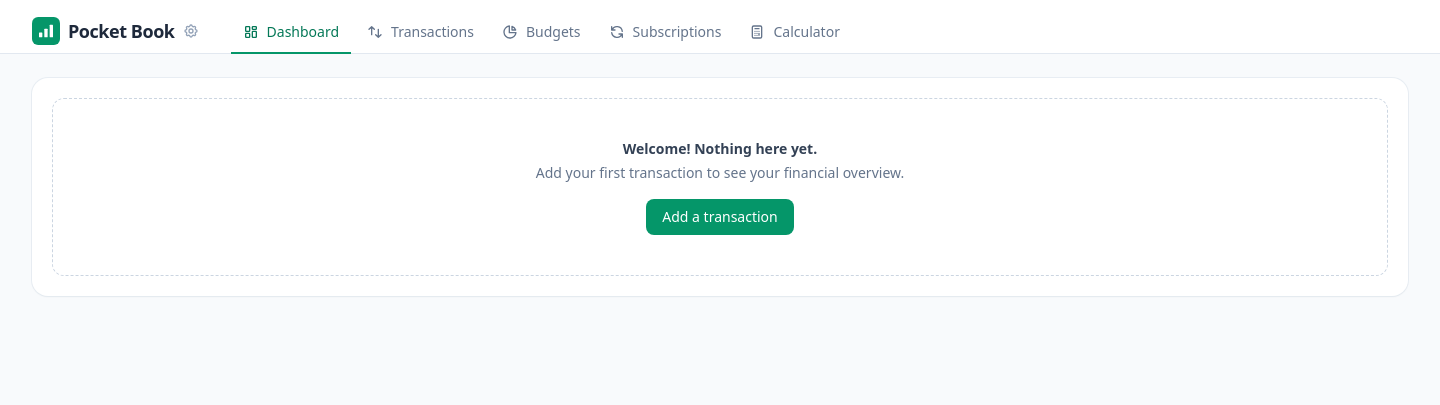
Test: App (smoke test through the real screens) › the Back button / gesture › closes Settings instead of leaving, and returns to the same tab
What coordinates should you click on to do the following:
click the tab "Budgets"
I would click on:
 (541, 33)
Its box is [490,12,592,54].
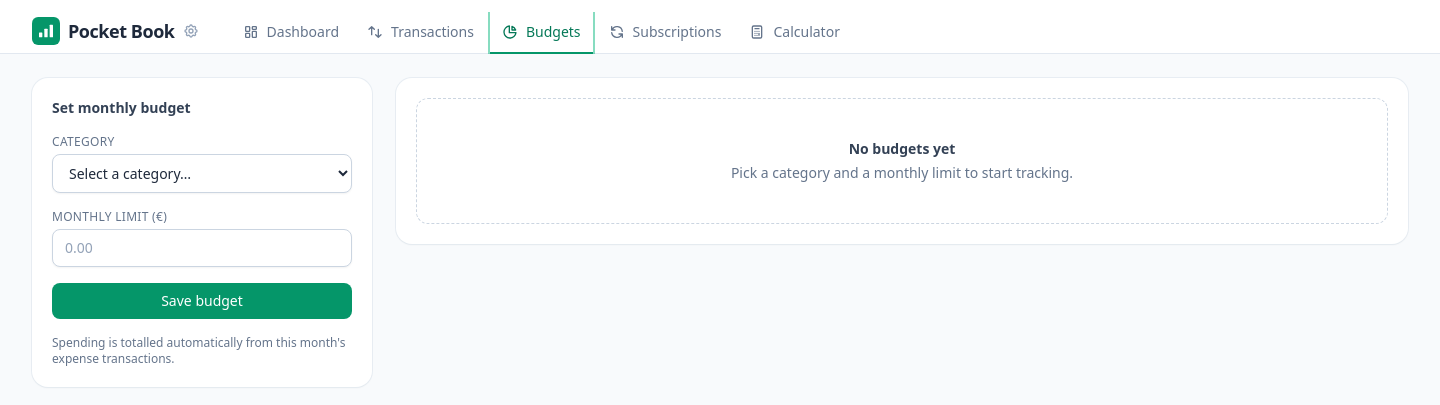
What coordinates should you click on to do the following:
click the button with aria-label "open settings"
I would click on:
 (115, 30)
Its box is [24,12,207,48].
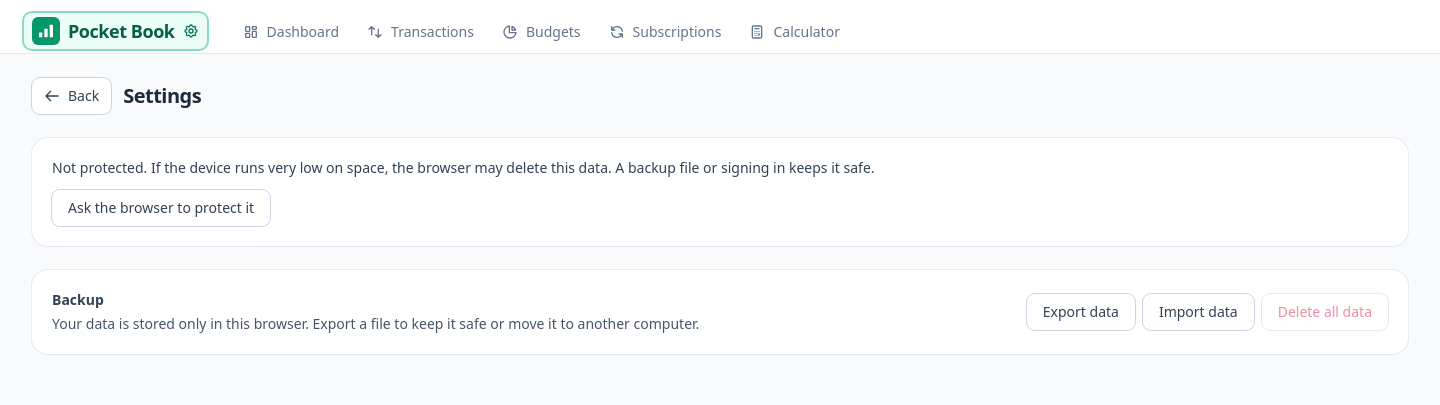
Expected: the heading "Settings" is shown, [123,82,201,110]
